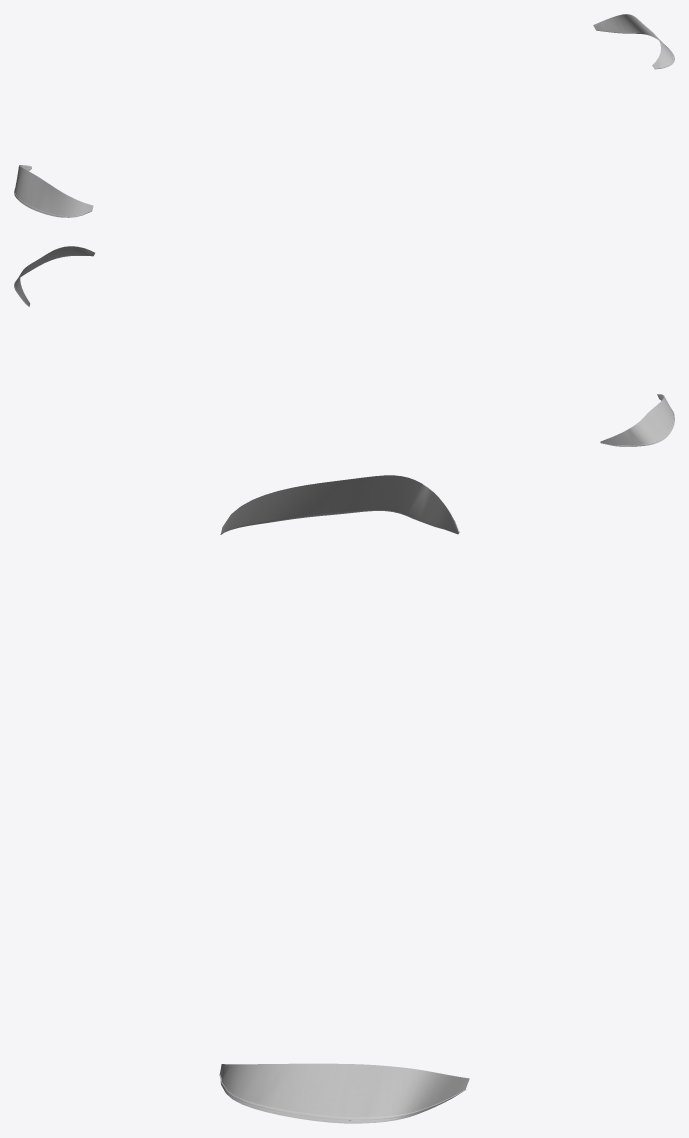
The model's file is Jac_COP_Hands.glb.
The picture shows the model from 3 angles, top to bottom: view 1: azimuth 30°, elevation 25°; view 2: azimuth 150°, elevation 25°; view 3: azimuth 270°, elevation 25°; orthographic projection. The views are drawn at different scales.
Parts seen in each view (by area): view 1: Jac_COP_Hands1; view 2: Jac_COP_Hands1; view 3: Jac_COP_Hands1.
Boxes of the visible parts, x1,y1,x2,y2 form: Jac_COP_Hands1: (14, 14, 674, 217); Jac_COP_Hands1: (14, 246, 674, 446); Jac_COP_Hands1: (220, 475, 469, 1123).
Size of the model in its own units: 1.19 by 0.0502 by 0.2019.
Materials: 2 (2 with a texture image).
